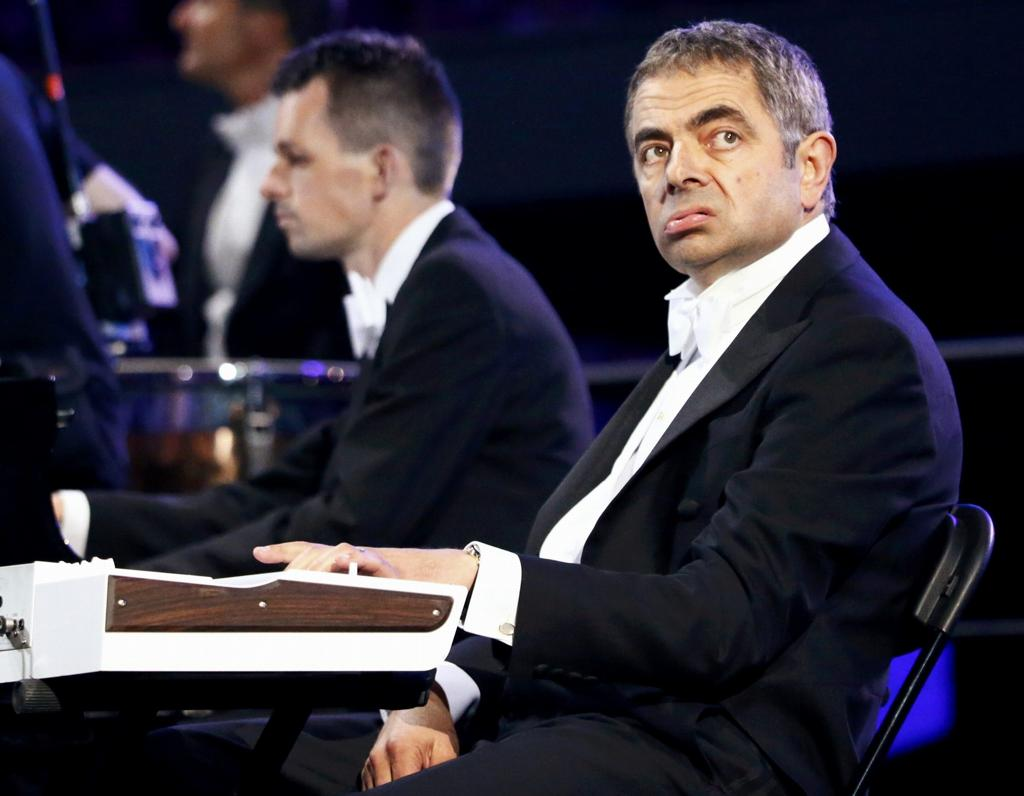face: (634, 86, 770, 260), (262, 90, 362, 254)
